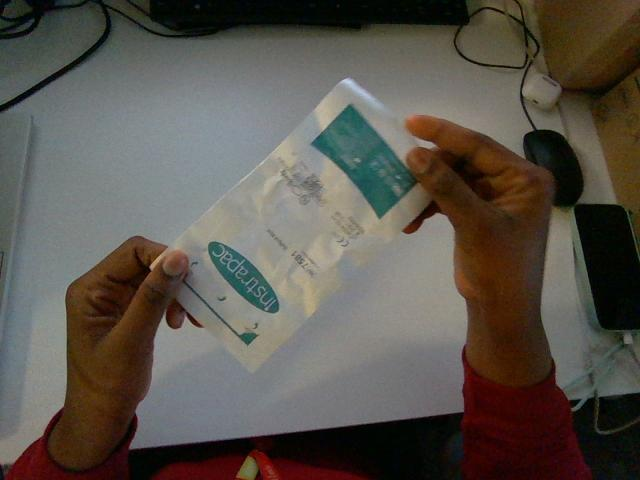gallipot: (170, 79, 429, 370)
